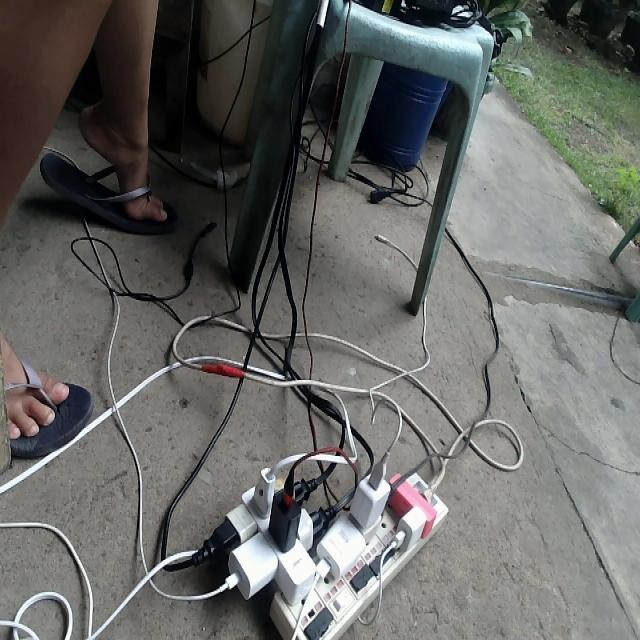-: (206, 448, 447, 636)
